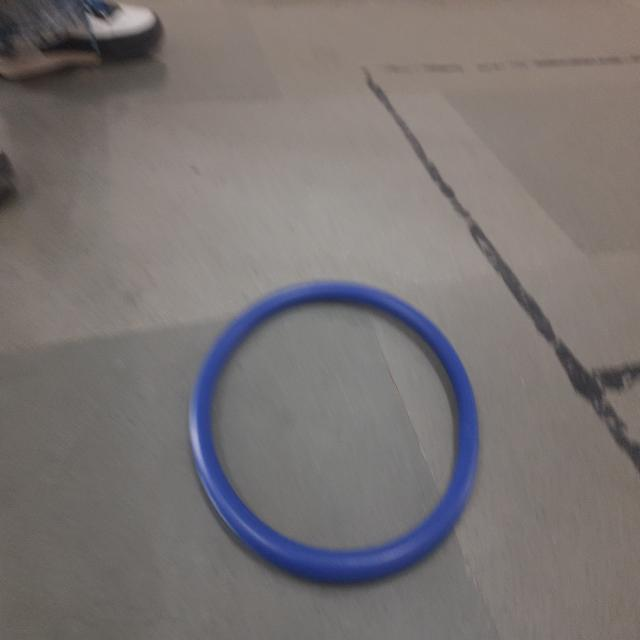daire: (198, 280, 481, 587)
